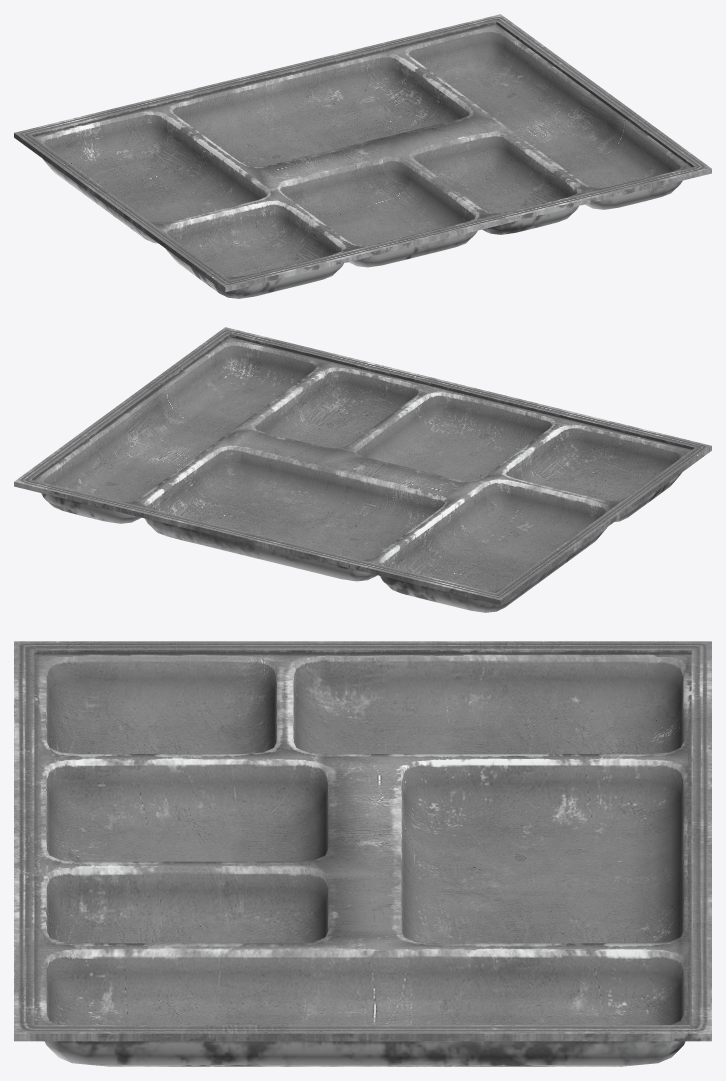
Rendered from SM_Foodtray_Empty.fbx.
3 renders of one model, top to bottom at view 1: azimuth 30°, elevation 25°; view 2: azimuth 150°, elevation 25°; view 3: azimuth 270°, elevation 25°, orthographic. The views are drawn at different scales.
Visible parts, largest first — view 1: SM_Foodtray_Empty; view 2: SM_Foodtray_Empty; view 3: SM_Foodtray_Empty.
Boxes of the visible parts, left/top/right/bottom form: SM_Foodtray_Empty: left=14, top=14, right=711, bottom=298; SM_Foodtray_Empty: left=14, top=327, right=711, bottom=612; SM_Foodtray_Empty: left=14, top=641, right=711, bottom=1066.
Bounding box in the file's own units: 53.51 × 40.23 × 3.8.
Materials: 1 (1 with a texture image).
